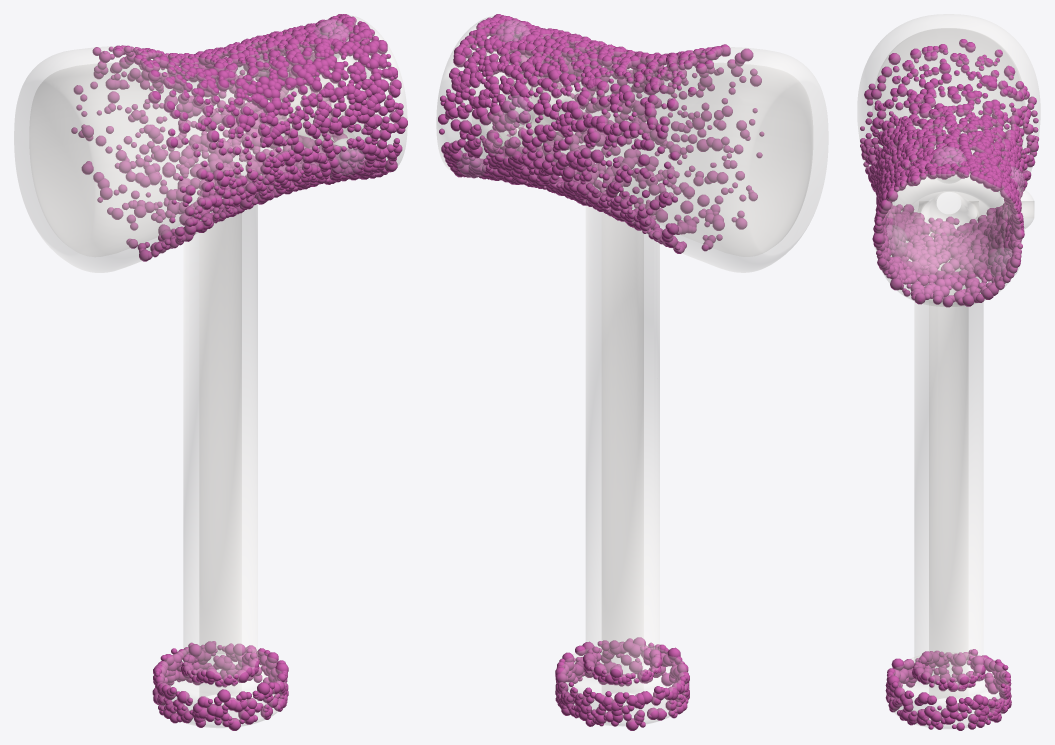
Rendered from hammer_flat_clear_gold.glb.
The picture shows the model from 3 angles, left to right: view 1: azimuth 30°, elevation 25°; view 2: azimuth 150°, elevation 25°; view 3: azimuth 270°, elevation 25°; orthographic projection. The views are drawn at different scales.
Parts seen in each view (by area): view 1: body, frit, marbles; view 2: body, frit, marbles; view 3: body, frit, marbles.
Part boxes in pixels (box(x1,y1,x2,y2)): body: box(14, 16, 407, 727); frit: box(71, 14, 407, 730); marbles: box(255, 19, 364, 174); body: box(436, 16, 828, 726); frit: box(438, 14, 764, 730); marbles: box(457, 20, 534, 177); body: box(857, 14, 1040, 728); frit: box(860, 39, 1038, 730); marbles: box(875, 147, 1024, 276).
Size of the model in its own units: 0.0682 by 0.1405 by 0.0371.
